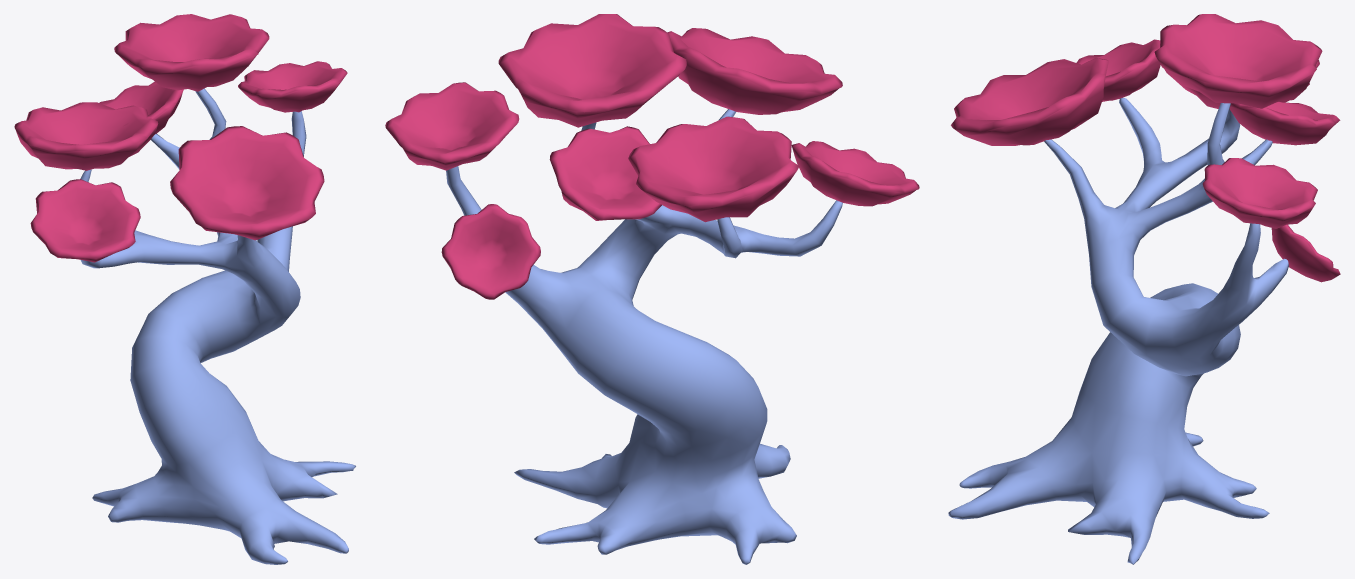
The model's file is SM_Tree_5.fbx.
3 renders of one model, left to right at view 1: azimuth 30°, elevation 25°; view 2: azimuth 150°, elevation 25°; view 3: azimuth 270°, elevation 25°, orthographic. The views are drawn at different scales.
Parts seen in each view (by area): view 1: Arbres_2, Feuilles_Abres2_LP, Feuilles_Abres203_LP, Feuilles_Abres204_LP, Feuilles_Abres206_LP, Feuilles_Abres201_LP, Feuilles_Abres205_LP; view 2: Arbres_2, Feuilles_Abres203_LP, Feuilles_Abres204_LP, Feuilles_Abres2_LP, Feuilles_Abres201_LP, Feuilles_Abres205_LP, Feuilles_Abres202_LP, Feuilles_Abres206_LP; view 3: Arbres_2, Feuilles_Abres203_LP, Feuilles_Abres2_LP, Feuilles_Abres201_LP, Feuilles_Abres205_LP, Feuilles_Abres206_LP, Feuilles_Abres202_LP.
Boxes of the visible parts, x1,y1,x2,y2 form: Arbres_2: [80, 88, 355, 564]; Feuilles_Abres2_LP: [170, 126, 324, 240]; Feuilles_Abres203_LP: [114, 14, 269, 91]; Feuilles_Abres204_LP: [14, 102, 158, 170]; Feuilles_Abres206_LP: [30, 179, 140, 262]; Feuilles_Abres201_LP: [238, 61, 347, 112]; Feuilles_Abres205_LP: [99, 81, 183, 134]; Arbres_2: [446, 109, 842, 564]; Feuilles_Abres203_LP: [498, 14, 686, 127]; Feuilles_Abres204_LP: [628, 116, 799, 222]; Feuilles_Abres2_LP: [667, 28, 842, 114]; Feuilles_Abres201_LP: [385, 82, 519, 170]; Feuilles_Abres205_LP: [549, 126, 669, 220]; Feuilles_Abres202_LP: [441, 204, 540, 299]; Feuilles_Abres206_LP: [791, 141, 919, 206]; Arbres_2: [948, 98, 1288, 564]; Feuilles_Abres203_LP: [1154, 14, 1322, 108]; Feuilles_Abres2_LP: [951, 58, 1108, 145]; Feuilles_Abres201_LP: [1202, 158, 1317, 228]; Feuilles_Abres205_LP: [1229, 102, 1340, 145]; Feuilles_Abres206_LP: [1076, 39, 1160, 101]; Feuilles_Abres202_LP: [1271, 224, 1340, 282].
Size of the model in its own units: 113 by 128 by 96.32.
